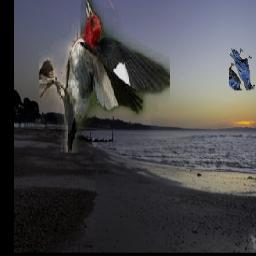Crow: (229, 47, 255, 90)
Woodpecker: (40, 0, 171, 154)
